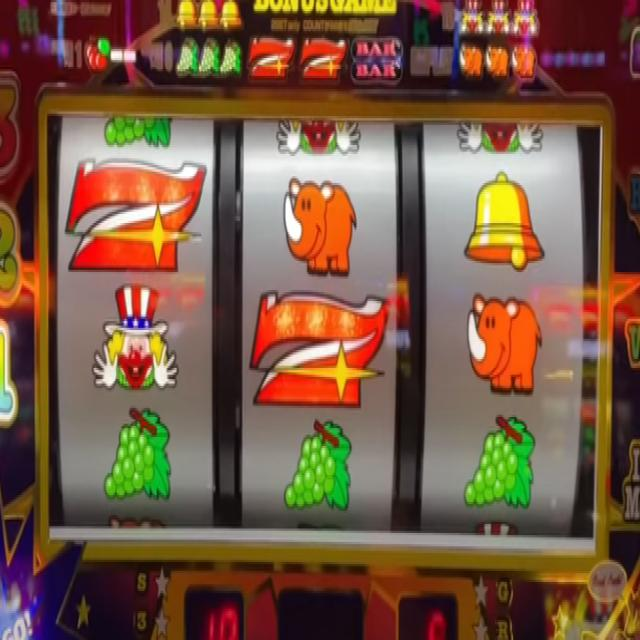bar: (350, 39, 404, 85)
bell: (464, 171, 546, 275), (176, 0, 198, 34), (198, 0, 220, 34), (218, 0, 242, 30)
cherry: (83, 33, 109, 72)
clown: (93, 282, 179, 392), (276, 118, 362, 161), (457, 119, 546, 156), (460, 0, 484, 38), (513, 2, 539, 37), (488, 1, 512, 37)
display: (46, 110, 596, 554)
elephant: (282, 176, 358, 280), (468, 289, 542, 394), (458, 39, 483, 80), (511, 46, 535, 78), (486, 44, 508, 78)
grape: (464, 411, 538, 510), (283, 418, 354, 513), (105, 404, 171, 506), (102, 114, 174, 153), (196, 37, 218, 79), (220, 40, 241, 80), (176, 40, 198, 78)
z: (65, 157, 205, 272), (253, 292, 388, 409), (303, 34, 345, 87), (250, 36, 294, 83)
